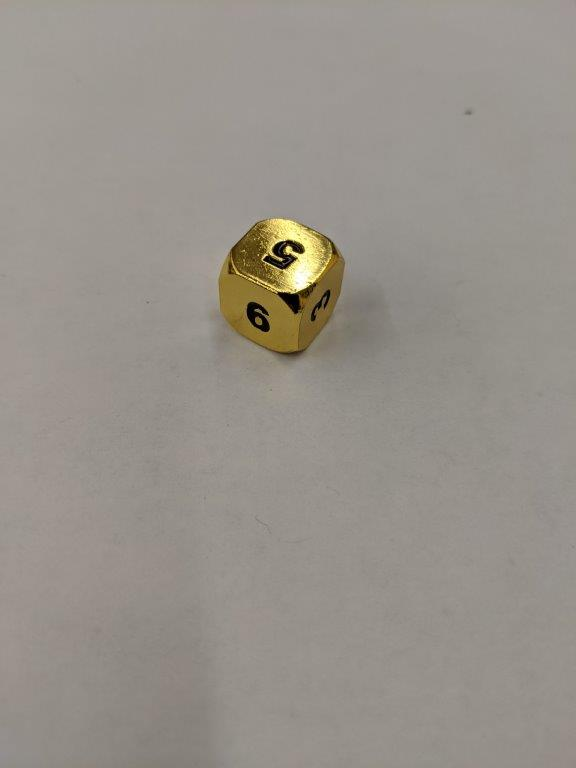d6-5: (217, 215, 349, 357)
